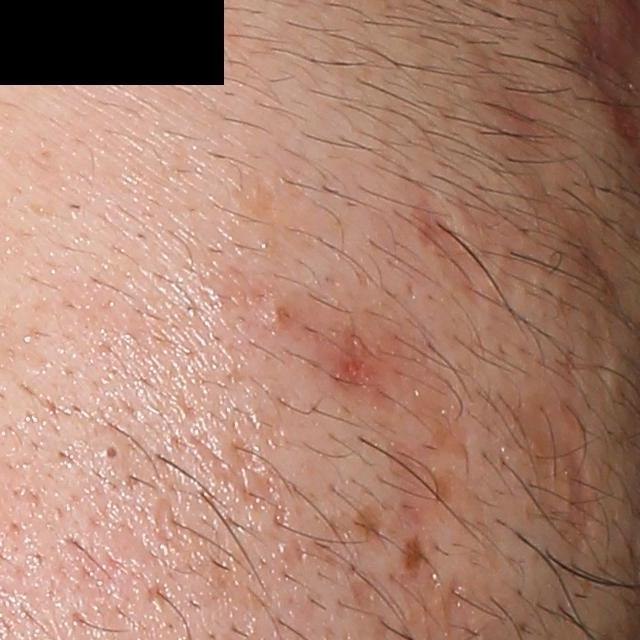atrophic_scar: (410, 201, 490, 309), (414, 395, 473, 463), (561, 446, 598, 551)
comedo: (95, 437, 131, 468)
